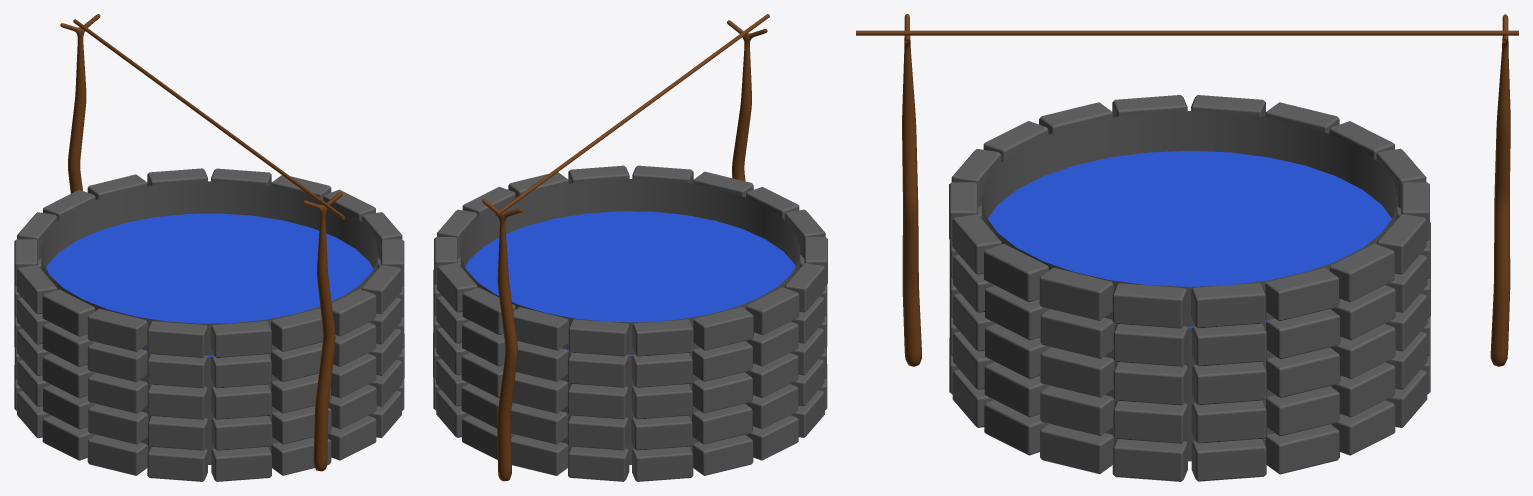
The model's file is Well.fbx.
3 renders of one model, left to right at view 1: azimuth 30°, elevation 25°; view 2: azimuth 150°, elevation 25°; view 3: azimuth 270°, elevation 25°, orthographic. The views are drawn at different scales.
Visible parts, largest first — view 1: Well, Circle, Cylinder.001, Vert, Vert.001, Cylinder; view 2: Well, Circle, Cylinder.001, Vert.001, Vert, Cylinder; view 3: Well, Circle, Cylinder.001, Vert.001, Vert, Cylinder.
Part boxes in pixels (bbox=[...]): Well: bbox=[14, 168, 404, 481]; Circle: bbox=[46, 213, 373, 356]; Cylinder.001: bbox=[41, 181, 377, 464]; Vert: bbox=[303, 192, 342, 471]; Vert.001: bbox=[60, 14, 100, 193]; Cylinder: bbox=[73, 19, 345, 219]; Well: bbox=[433, 165, 827, 481]; Circle: bbox=[465, 211, 795, 355]; Cylinder.001: bbox=[460, 178, 800, 464]; Vert.001: bbox=[482, 199, 522, 481]; Vert: bbox=[727, 20, 767, 181]; Cylinder: bbox=[495, 14, 769, 215]; Well: bbox=[949, 95, 1430, 481]; Circle: bbox=[988, 150, 1391, 328]; Cylinder.001: bbox=[981, 111, 1397, 461]; Vert.001: bbox=[1490, 14, 1510, 366]; Vert: bbox=[902, 14, 921, 366]; Cylinder: bbox=[856, 30, 1518, 35].
Size of the model in its own units: 461 by 371 by 628.
